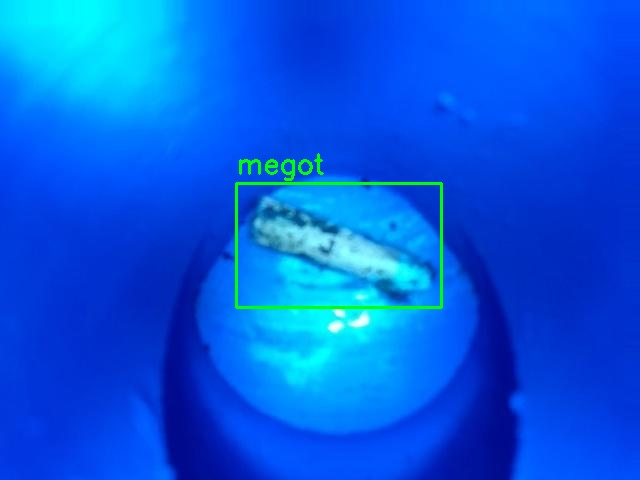megot: (236, 183, 441, 307)
